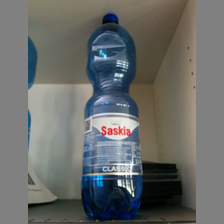water: (81, 12, 145, 224)
